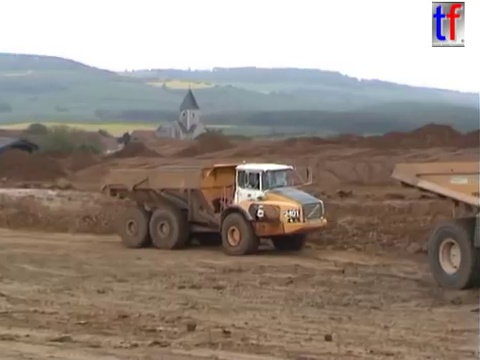truck: (99, 160, 329, 256), (388, 158, 480, 292)
